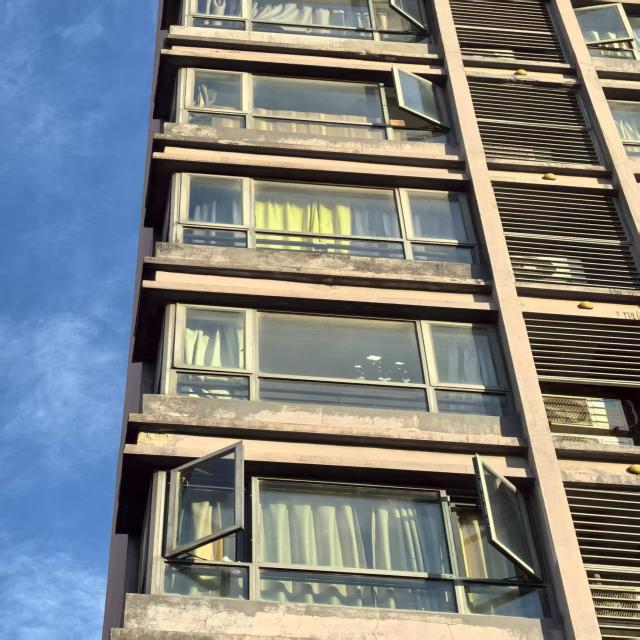mildew: (129, 395, 521, 446), (110, 596, 543, 640), (145, 241, 490, 286), (152, 122, 455, 160), (169, 24, 445, 61), (514, 280, 636, 296), (125, 431, 198, 454), (558, 470, 638, 486), (552, 439, 638, 451), (591, 54, 639, 71)
